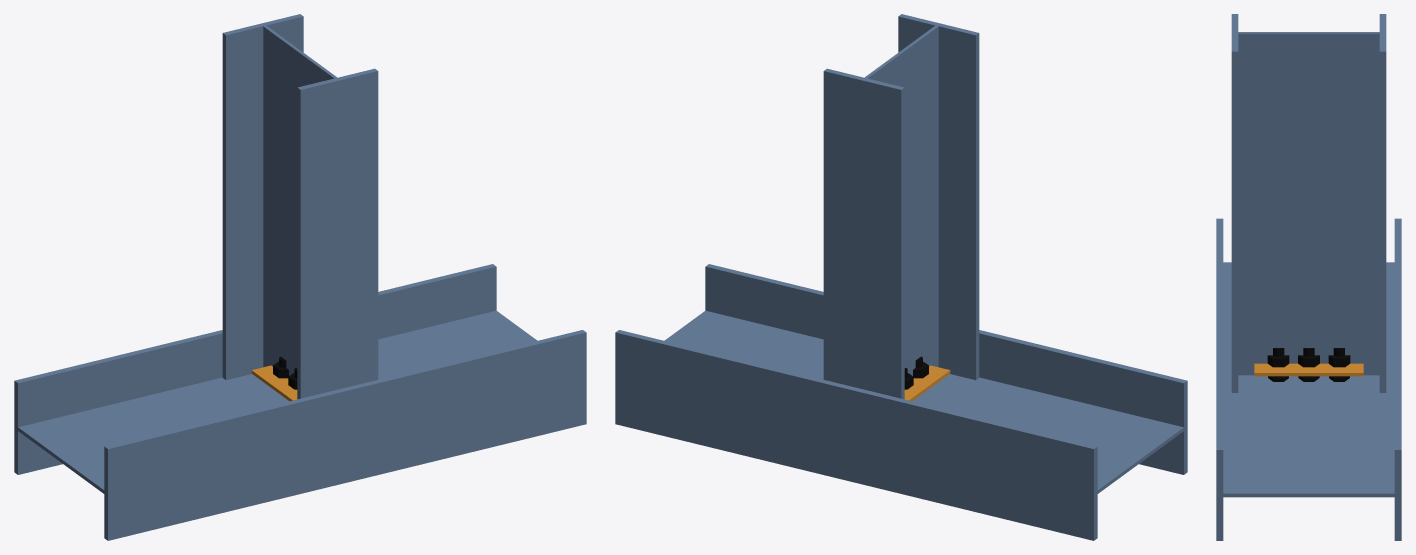
The model's file is detail_B1_beam_to_beam_connection.obj.
The picture shows the model from 3 angles, left to right: view 1: azimuth 30°, elevation 25°; view 2: azimuth 150°, elevation 25°; view 3: azimuth 270°, elevation 25°; orthographic projection.
Parts seen in each view (by area): view 1: B1_primary_beam_top_flange, B1_secondary_beam_top_flange, B1_primary_beam_bottom_flange, B1_primary_beam_web, B1_secondary_beam_bottom_flange, B1_secondary_beam_web, B1_PL6_fin_plate_80x180; view 2: B1_primary_beam_bottom_flange, B1_secondary_beam_bottom_flange, B1_primary_beam_top_flange, B1_primary_beam_web, B1_secondary_beam_top_flange, B1_secondary_beam_web, B1_PL6_fin_plate_80x180; view 3: B1_secondary_beam_web, B1_primary_beam_web, B1_secondary_beam_top_flange, B1_secondary_beam_bottom_flange, B1_primary_beam_top_flange, B1_primary_beam_bottom_flange, B1_PL6_fin_plate_80x180, bolt_M20_B1_1, bolt_M20_B1_3, bolt_M20_B1_2.
Part boxes in pixels (x1,y1,x2,y2): B1_primary_beam_top_flange: (104, 330, 586, 540); B1_secondary_beam_top_flange: (297, 68, 378, 399); B1_primary_beam_bottom_flange: (14, 264, 496, 474); B1_primary_beam_web: (18, 310, 537, 493); B1_secondary_beam_bottom_flange: (222, 14, 303, 380); B1_secondary_beam_web: (263, 25, 336, 375); B1_PL6_fin_plate_80x180: (251, 365, 297, 401); B1_primary_beam_bottom_flange: (615, 330, 1097, 540); B1_secondary_beam_bottom_flange: (823, 68, 904, 399); B1_primary_beam_top_flange: (705, 264, 1187, 474); B1_primary_beam_web: (664, 310, 1183, 493); B1_secondary_beam_top_flange: (898, 14, 979, 380); B1_secondary_beam_web: (865, 25, 938, 375); B1_PL6_fin_plate_80x180: (904, 365, 950, 401); B1_secondary_beam_web: (1238, 32, 1379, 375); B1_primary_beam_web: (1223, 262, 1394, 497); B1_secondary_beam_top_flange: (1231, 14, 1238, 392); B1_secondary_beam_bottom_flange: (1379, 14, 1386, 392); B1_primary_beam_top_flange: (1216, 218, 1223, 540); B1_primary_beam_bottom_flange: (1394, 218, 1401, 540); B1_PL6_fin_plate_80x180: (1254, 363, 1363, 376); bolt_M20_B1_1: (1328, 348, 1350, 381); bolt_M20_B1_3: (1267, 348, 1289, 381); bolt_M20_B1_2: (1298, 348, 1319, 381).
Bounding box in the file's own units: 900 × 712 × 305.
